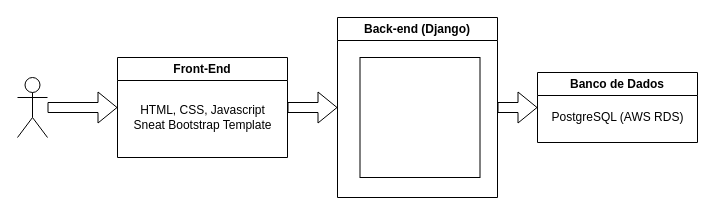
Image size: 715x215. Some labels were removed from this diagram. Each missing label, with the centre of its shape:
"Actor" goes at (x=32, y=107).
"Models Views Templates" goes at (x=419, y=117).
